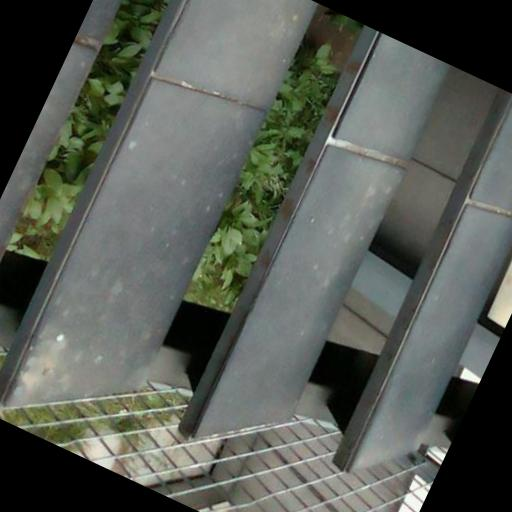stairs: (180, 25, 511, 471)
